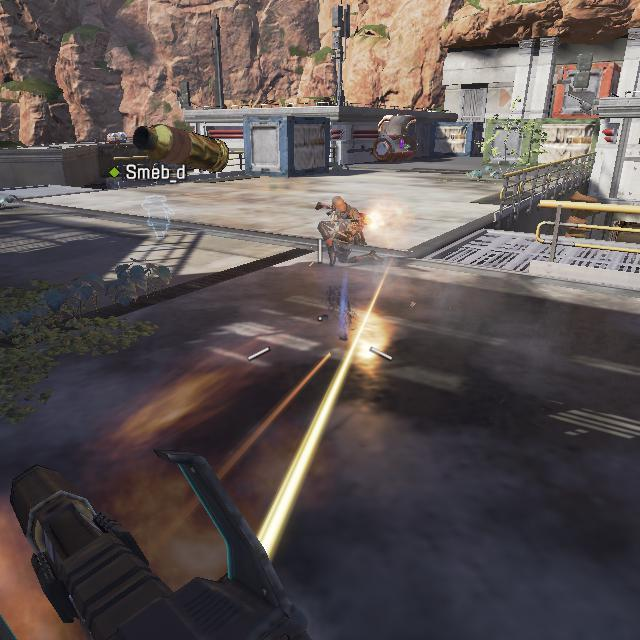avatar: (316, 195, 369, 270)
